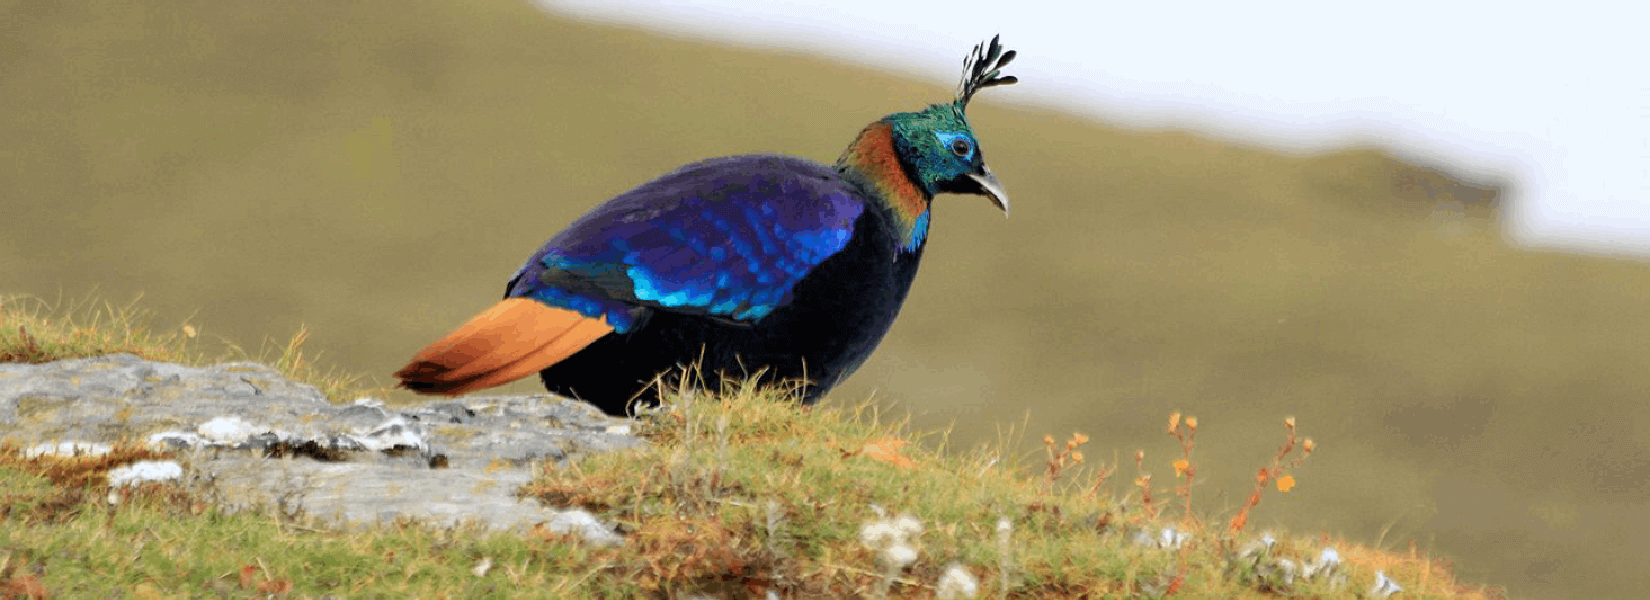bird: (378, 26, 1047, 453)
